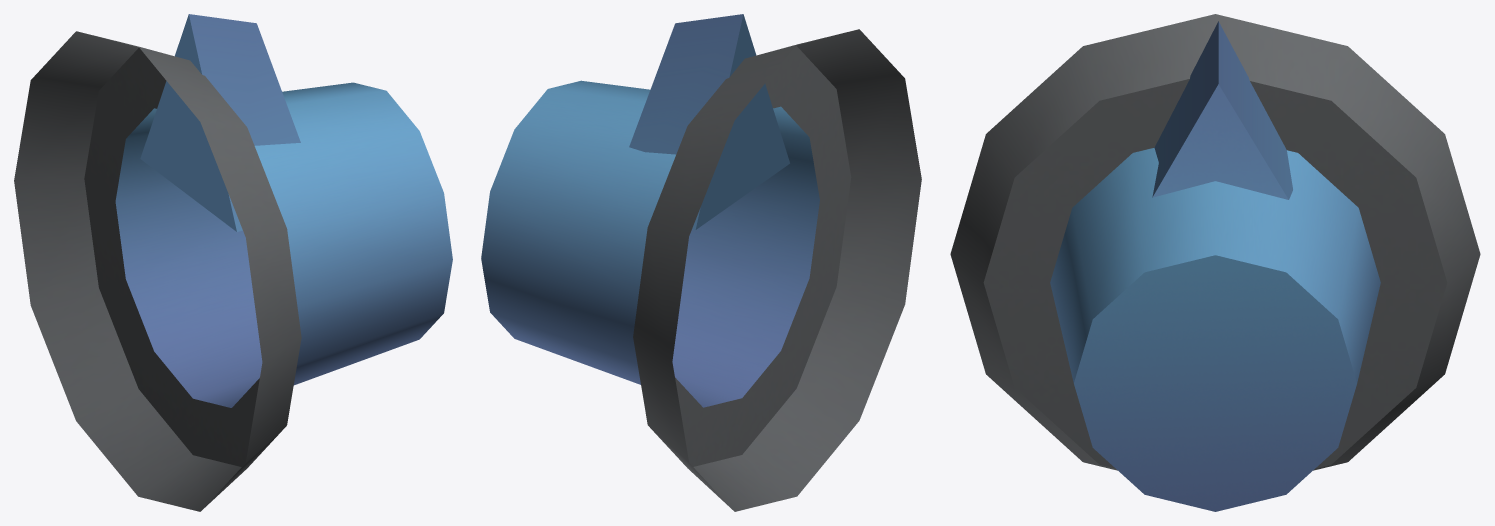
File: airfiltrationnob.fbx
3 views of the same model, side by side, from view 1: azimuth 30°, elevation 25°; view 2: azimuth 150°, elevation 25°; view 3: azimuth 270°, elevation 25° (orthographic). The views are drawn at different scales.
Visible parts, largest first — view 1: Dial1; view 2: Dial1; view 3: Dial1.
Boxes of the visible parts, <box> form: Dial1: <box>14,14,452,511</box>; Dial1: <box>481,14,921,511</box>; Dial1: <box>950,14,1480,511</box>.
Bounding box in the file's own units: 0.8336 × 1.5 × 1.44.
